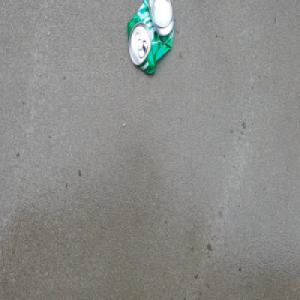SodaCan: (127, 0, 176, 77)
